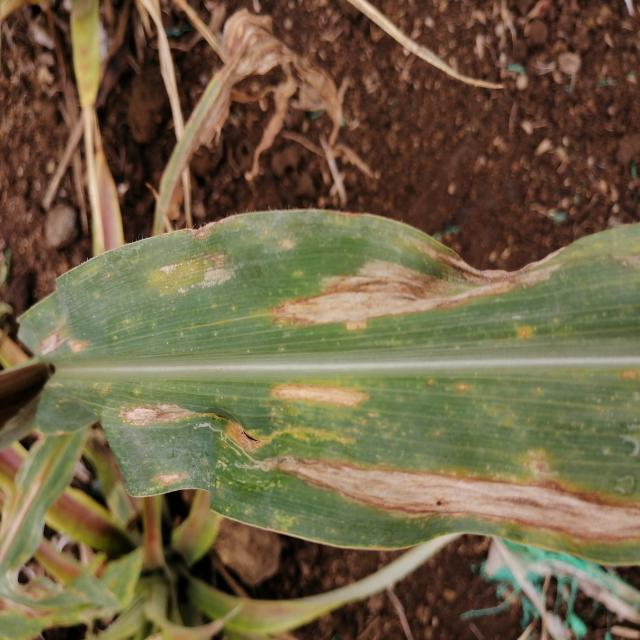Corn_Leaf_Blight: (37, 198, 640, 565)
